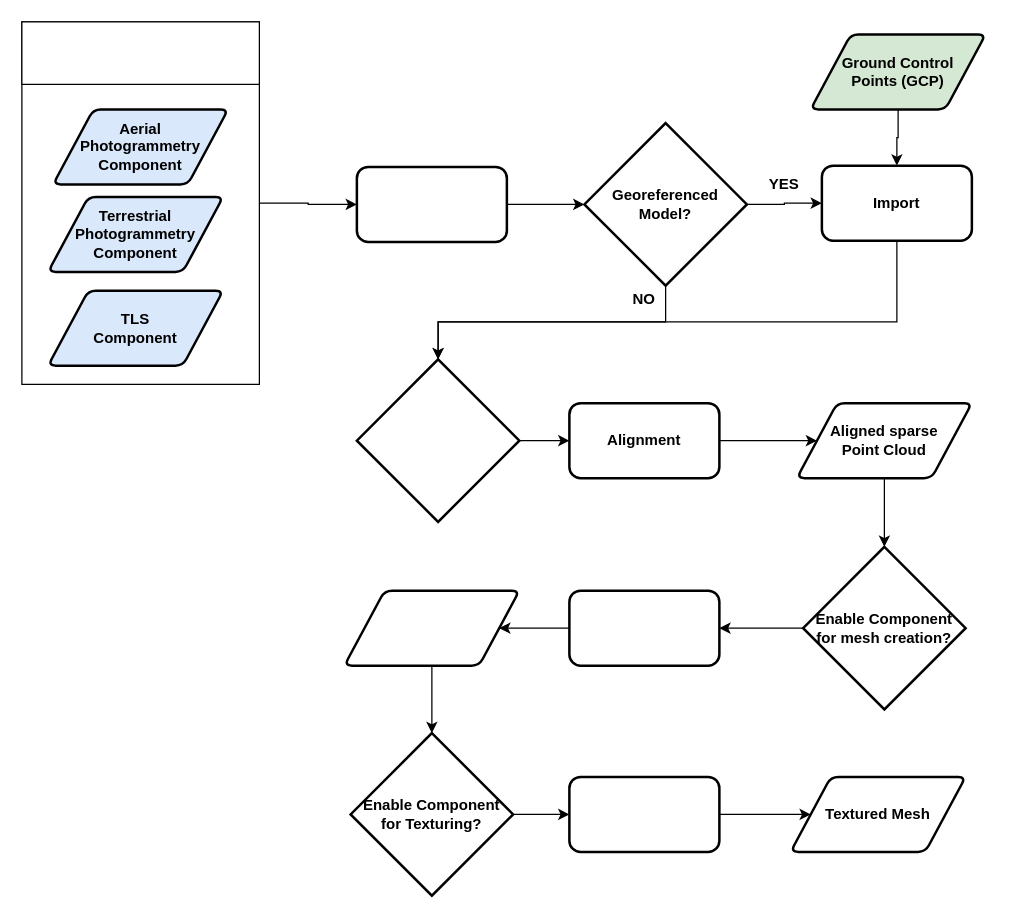
This 1009x919 diagram has some shape labels left out. The shapes that lost their labels are listed below. From the top down, each one's centre as x and y in pixels, then its label:
At (x=140, y=52): "Reality Capture Components".
At (x=431, y=203): "Mark Targets".
At (x=437, y=440): "Enable Component for Alignment?".
At (x=431, y=627): "Uncolored Mesh".
At (x=644, y=627): "Mesh Caluculation".
At (x=644, y=813): "Calculate Texture".
